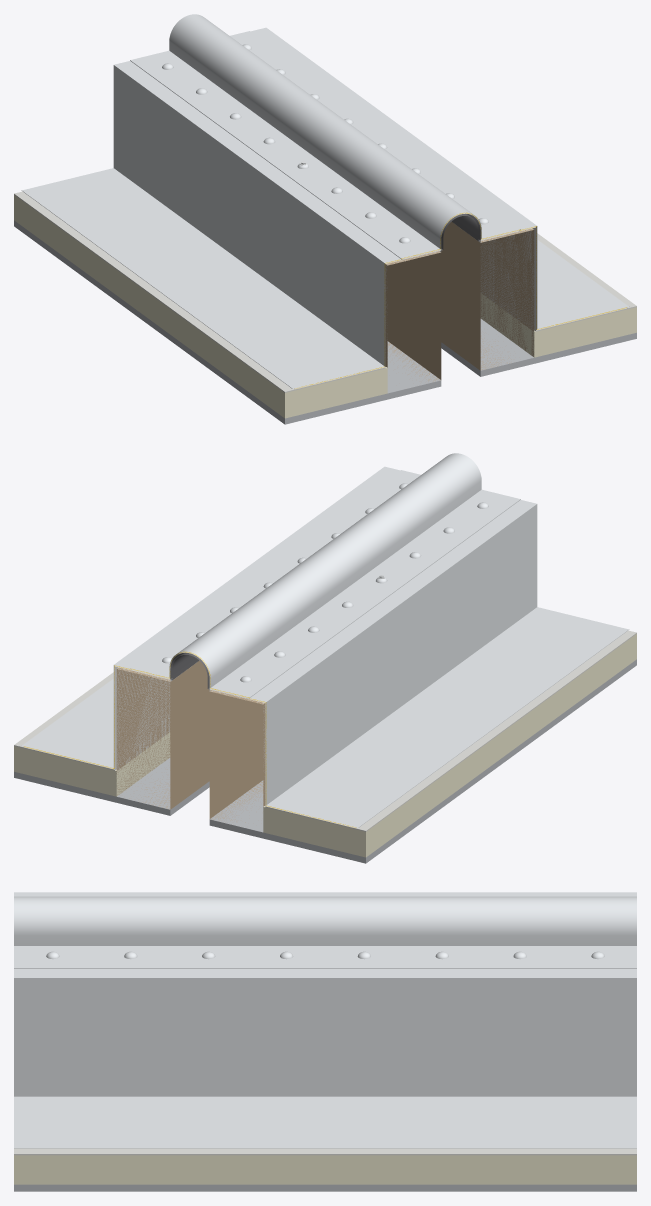
The model's file is expansion-joint-A-3-TYP.glb.
3 renders of one model, top to bottom at view 1: azimuth 30°, elevation 25°; view 2: azimuth 150°, elevation 25°; view 3: azimuth 270°, elevation 25°, orthographic. The views are drawn at different scales.
Parts seen in each view (by area): view 1: topcoat__topcoat_profile, existing__curb_e, existing__insulation_w, existing__curb_w, existing__steel_deck_w, existing__insulation_e, existing__membrane_flashing_e, existing__membrane_w, existing__steel_deck_e, existing__membrane_e, topcoat__topcoat_domes, primer__primer_profile (+1 smaller); view 2: topcoat__topcoat_profile, existing__curb_e, existing__insulation_w, existing__curb_w, existing__steel_deck_w, existing__insulation_e, existing__membrane_flashing_e, existing__membrane_w, existing__steel_deck_e, existing__membrane_e, topcoat__topcoat_domes, primer__primer_profile (+1 smaller); view 3: topcoat__topcoat_profile, existing__insulation_e, existing__steel_deck_e, existing__membrane_e, topcoat__topcoat_domes.
Boxes of the visible parts, x1,y1,x2,y2 form: topcoat__topcoat_profile: [21, 14, 628, 388]; existing__curb_e: [441, 222, 534, 370]; existing__insulation_w: [14, 195, 387, 418]; existing__curb_w: [385, 251, 441, 381]; existing__steel_deck_w: [14, 220, 441, 424]; existing__insulation_e: [480, 293, 636, 357]; existing__membrane_flashing_e: [454, 223, 535, 331]; existing__membrane_w: [14, 191, 385, 392]; existing__steel_deck_e: [441, 319, 636, 376]; existing__membrane_e: [534, 233, 636, 331]; topcoat__topcoat_domes: [162, 44, 488, 243]; primer__primer_profile: [294, 213, 626, 389]; topcoat__topcoat_profile: [22, 453, 629, 827]; existing__curb_e: [116, 661, 209, 809]; existing__insulation_w: [263, 634, 636, 857]; existing__curb_w: [209, 690, 265, 822]; existing__steel_deck_w: [209, 659, 636, 863]; existing__insulation_e: [14, 732, 170, 796]; existing__membrane_flashing_e: [115, 662, 196, 770]; existing__membrane_w: [265, 630, 636, 831]; existing__steel_deck_e: [14, 758, 209, 815]; existing__membrane_e: [14, 672, 116, 770]; topcoat__topcoat_domes: [162, 483, 488, 682]; primer__primer_profile: [24, 652, 356, 828]; topcoat__topcoat_profile: [14, 892, 636, 1148]; existing__insulation_e: [14, 1155, 636, 1184]; existing__steel_deck_e: [14, 1184, 636, 1191]; existing__membrane_e: [14, 1148, 636, 1155]; topcoat__topcoat_domes: [46, 951, 604, 959].
Size of the model in its own units: 0.9144 by 0.4183 by 1.22.
